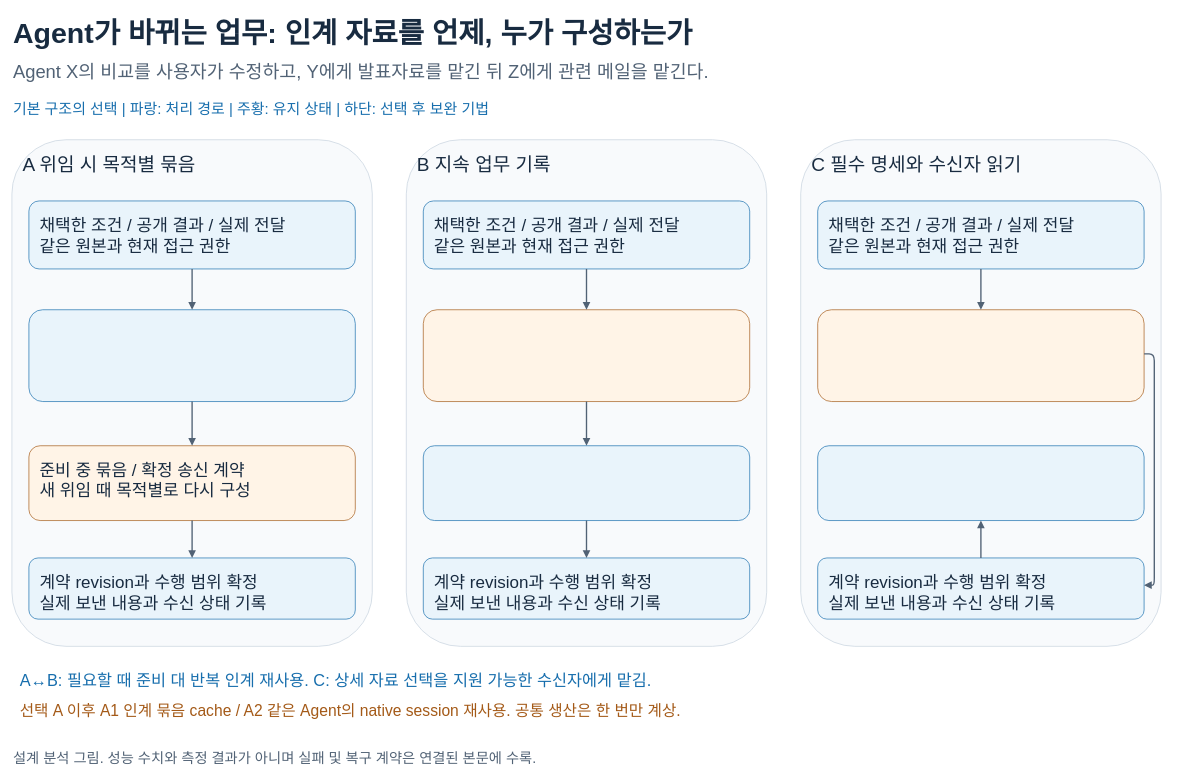
Image size: 1183x779. Some labels were removed from this diagram. Here are the shapes that lost their labels. From the top down, the centre of each, then its label:
At [191,355]: "현재 위임 목적에 맞춰 자료 선택 설명 / 발췌 / 결과 참조 구성 이전에 확보한 유효 근거도 사용".
At [586,355]: "업무 변경마다 기록 갱신 현재 조건 / 적용된 결과 관계 source / coverage / 생산 상태".
At [980,355]: "VIA: 필수 목표 / 조건 / 자료 명세 판본 / 범위 / 권한 lease / 만료 필수 조건은 수신자 발견에 맡기지 않음".
At [586,483]: "위임 목적에 맞춰 기록 추출 부족한 원본 보완과 현재성 확인".
At [980,483]: "수신 Agent: 필요한 상세 자료 선택 허용 범위 안에서 읽고 업무 수행".
